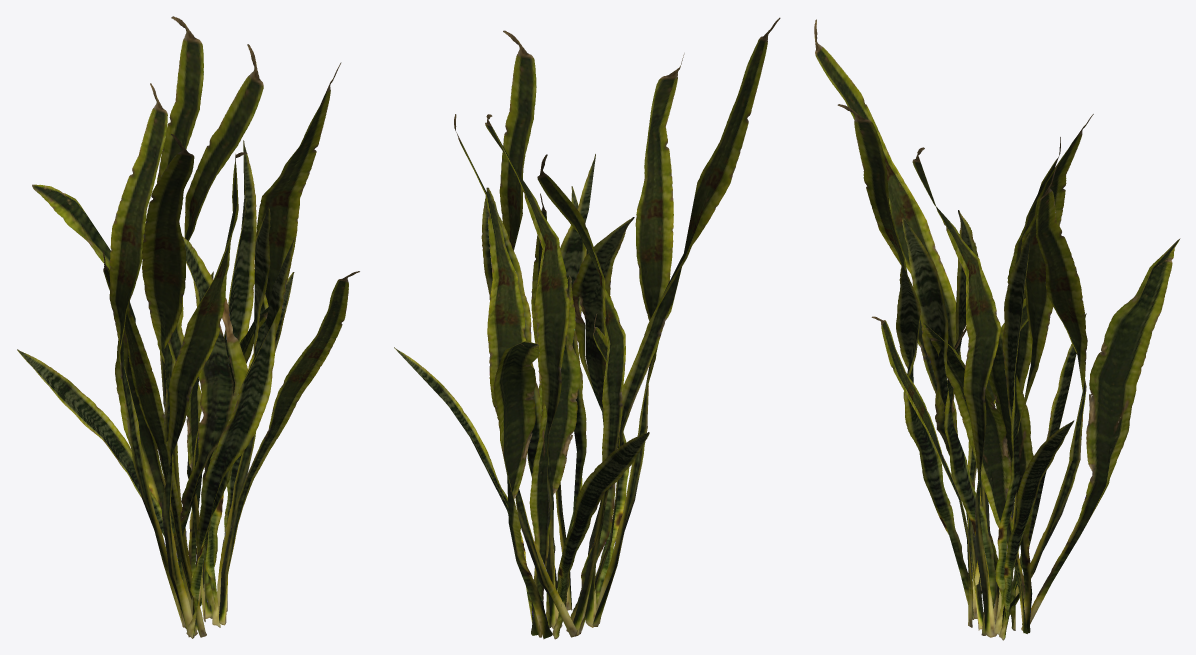
File: snake_plant.glb
The picture shows the model from 3 angles, left to right: view 1: azimuth 30°, elevation 25°; view 2: azimuth 150°, elevation 25°; view 3: azimuth 270°, elevation 25°; orthographic projection. The views are drawn at different scales.
Visible parts, largest first — view 1: Megascans snake_plant; view 2: Megascans snake_plant; view 3: Megascans snake_plant.
Part boxes in pixels (left/top/right/bottom): Megascans snake_plant: left=17, top=16, right=359, bottom=638; Megascans snake_plant: left=394, top=17, right=780, bottom=639; Megascans snake_plant: left=814, top=19, right=1180, bottom=640.
Bounding box in the file's own units: 0.5685 × 1.19 × 0.7121.
1 material, 1 textured.
